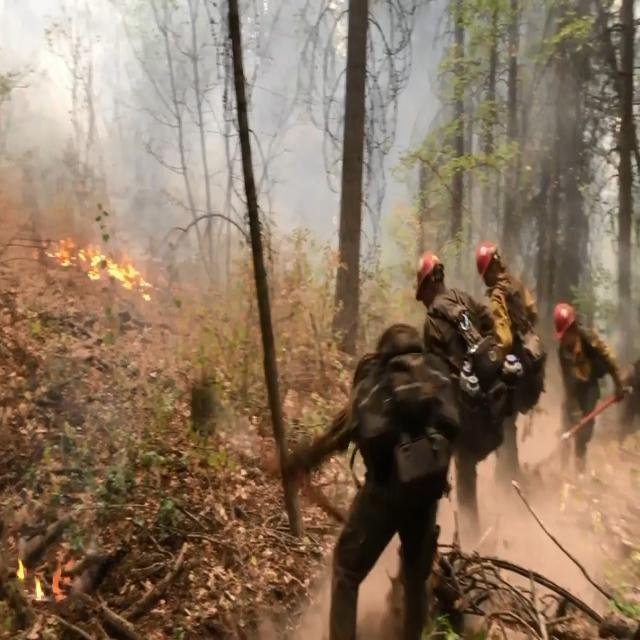Fire: (41, 217, 153, 301)
